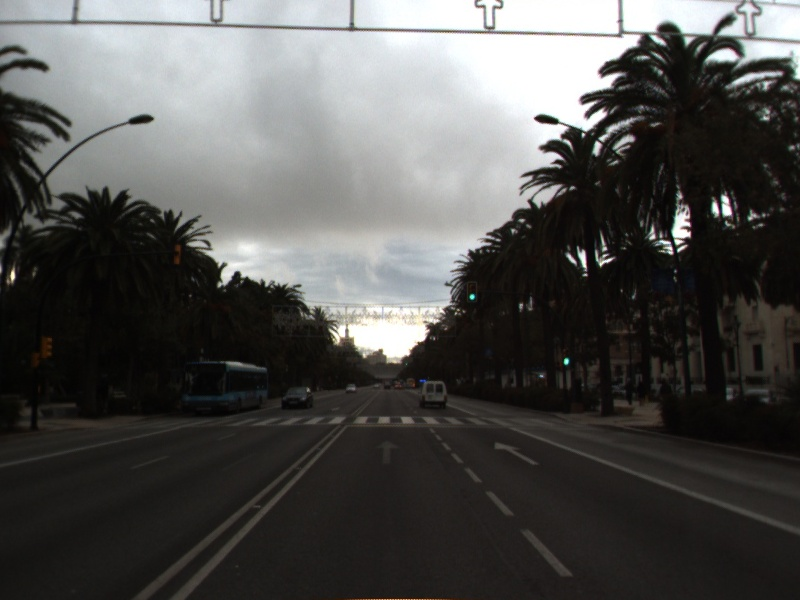STRAIGHT: (491, 439, 543, 467), (373, 438, 402, 466)
